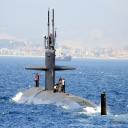submarine: (20, 8, 109, 117)
